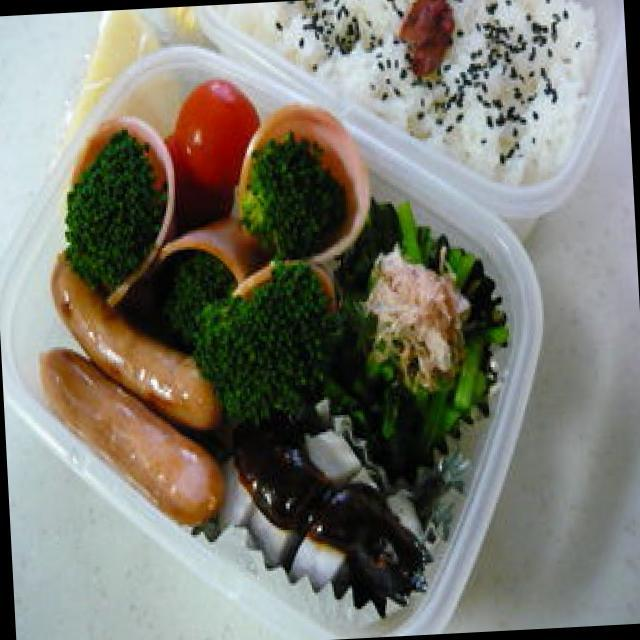Sausage: (33, 270, 225, 540)
